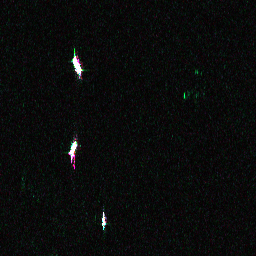ship: (69, 55, 85, 77), (66, 138, 80, 158), (100, 211, 107, 227)
